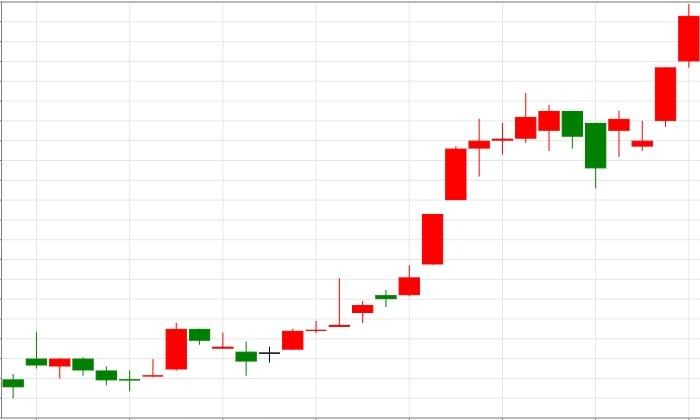three_white_soldiers_rise: (538, 3, 700, 189)
